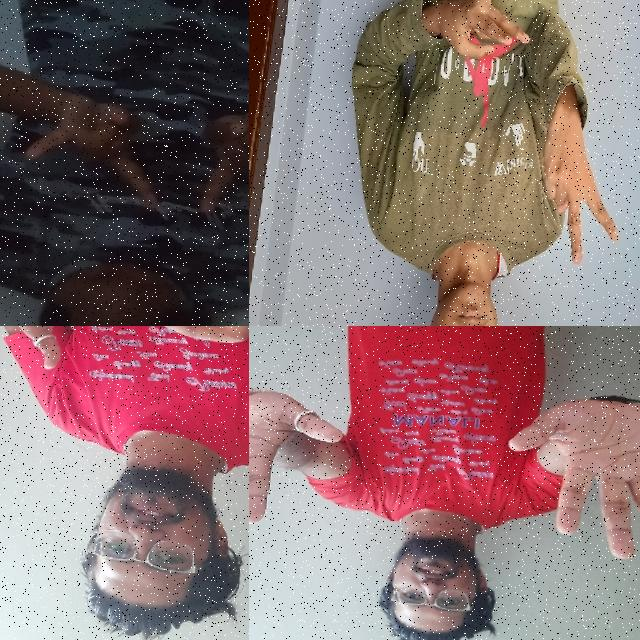Corna: (15, 82, 178, 214), (192, 96, 249, 226)
Five Fathers: (0, 326, 249, 390)
Moutza: (497, 379, 640, 570), (249, 369, 359, 545)
Reversed Victory: (530, 97, 634, 275)
